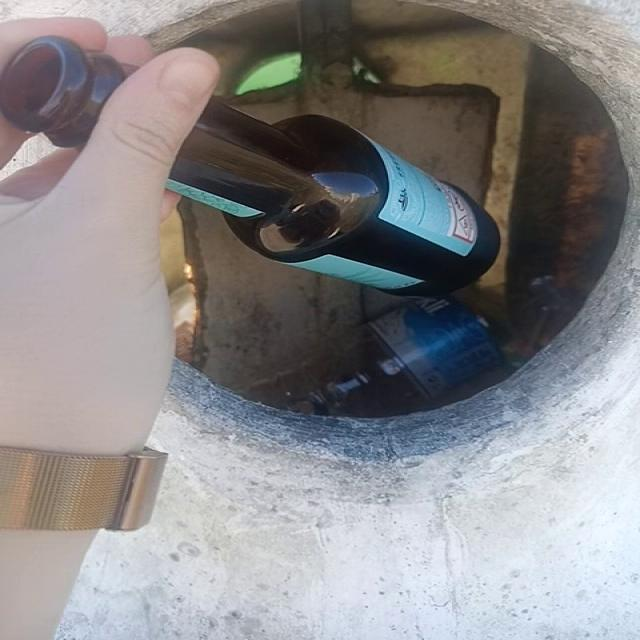glass: (167, 103, 500, 296), (3, 37, 124, 146)
